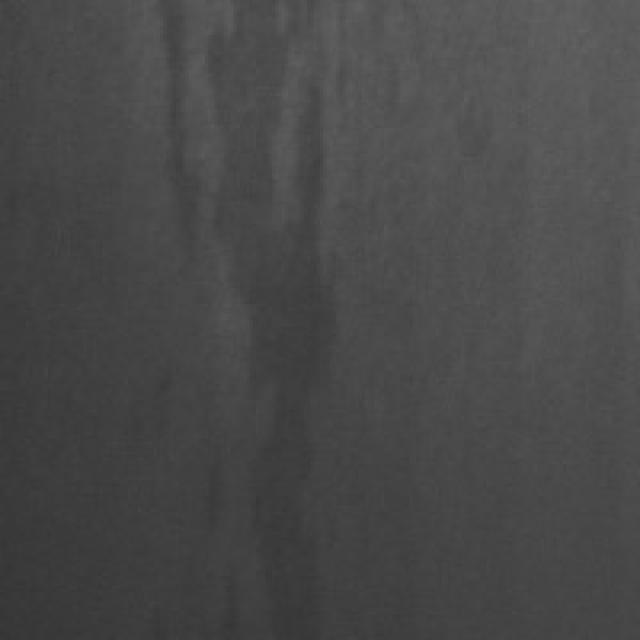inclusion: (173, 0, 342, 621), (131, 0, 227, 285)
